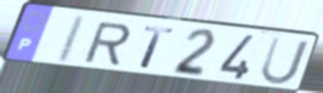2: (170, 27, 217, 79)
4: (215, 33, 258, 82)
I: (52, 13, 89, 66)
R: (81, 21, 133, 66)
T: (138, 25, 177, 71)
U: (257, 36, 312, 87)
